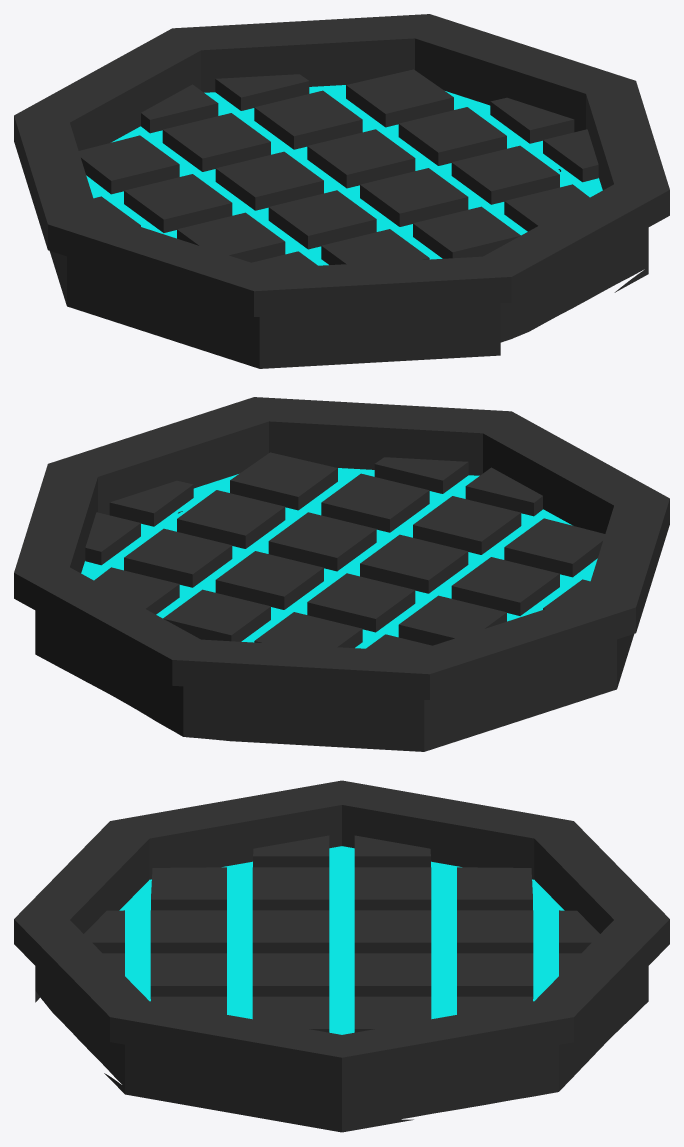
The model's file is manhole.obj.
The picture shows the model from 3 angles, top to bottom: view 1: azimuth 30°, elevation 25°; view 2: azimuth 150°, elevation 25°; view 3: azimuth 270°, elevation 25°; orthographic projection. The views are drawn at different scales.
Visible parts, largest first — view 1: Manhole_Part_2_Cylinder_Cylinder.002; view 2: Manhole_Part_2_Cylinder_Cylinder.002; view 3: Manhole_Part_2_Cylinder_Cylinder.002.
Boxes of the visible parts, x1,y1,x2,y2 form: Manhole_Part_2_Cylinder_Cylinder.002: (14, 14, 669, 368); Manhole_Part_2_Cylinder_Cylinder.002: (14, 397, 669, 751); Manhole_Part_2_Cylinder_Cylinder.002: (14, 780, 669, 1132).
Size of the model in its own units: 2.14 by 0.3012 by 2.14.
1 material, 1 textured.
